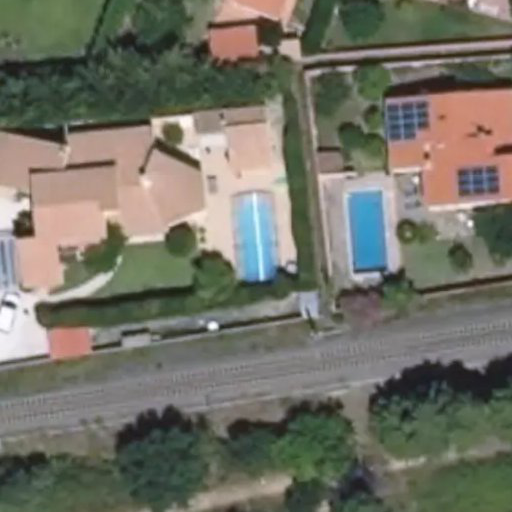pool: (231, 203, 277, 279)
